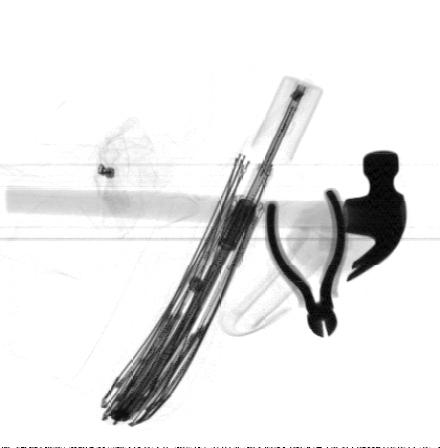Hammer: (5, 148, 409, 283)
Pliers: (264, 188, 351, 338)
